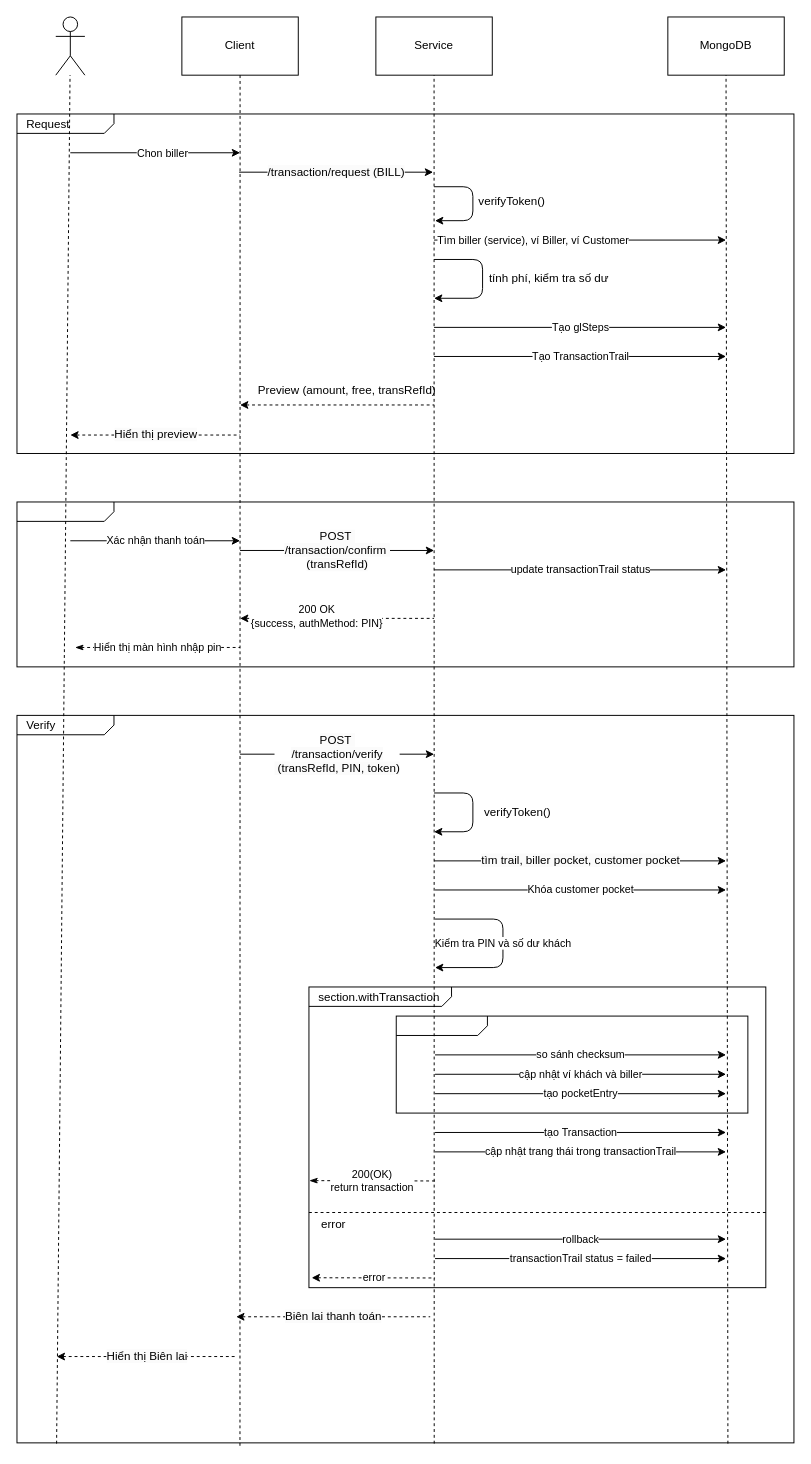
The diagram is 811 pixels wide and 1464 high, and some of its shapes have lost their labels. Each missing label, with the centre of its shape:
"Confirm" belongs at (405,584).
"Customer" belongs at (70,45).
"loop (glSteps)" belongs at (571,1064).
